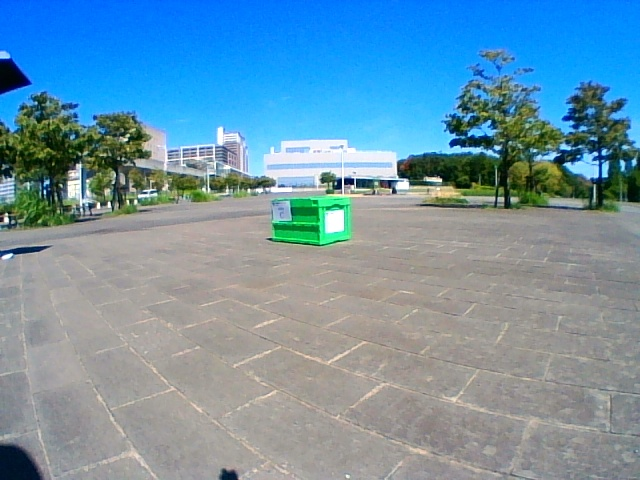green_box: (271, 197, 350, 246)
tag: (273, 201, 290, 221)
